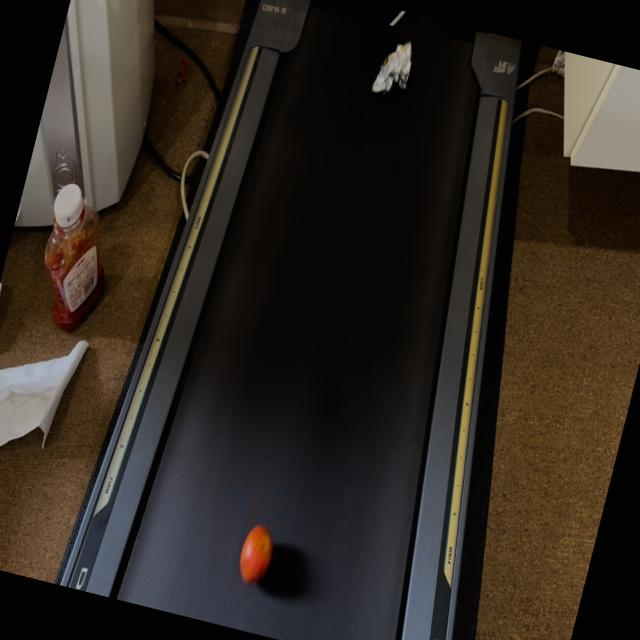Trash: (365, 26, 422, 112), (229, 510, 281, 588)
